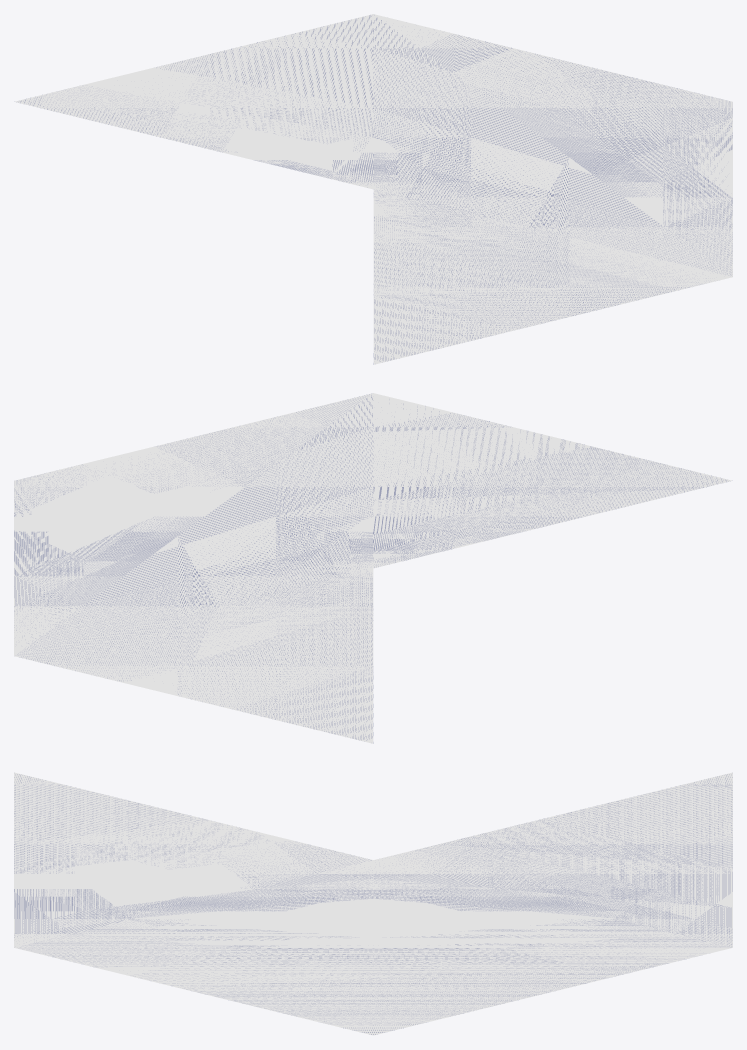
Rendered from arrow.dae.
3 renders of one model, top to bottom at view 1: azimuth 30°, elevation 25°; view 2: azimuth 150°, elevation 25°; view 3: azimuth 270°, elevation 25°, orthographic.
Visible parts, largest first — view 1: SketchUp; view 2: SketchUp; view 3: SketchUp.
Boxes of the visible parts, left/top/right/bottom form: SketchUp: left=14, top=14, right=732, bottom=364; SketchUp: left=14, top=393, right=732, bottom=743; SketchUp: left=14, top=772, right=732, bottom=1035.
Bounding box in the file's own units: 40.75 × 47.05 × 0.
